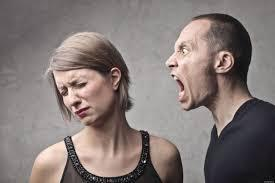raiva: (161, 19, 215, 114)
triste: (48, 62, 110, 128)
